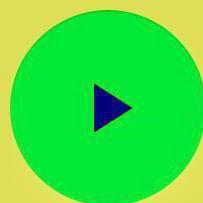ImgButton: (1, 1, 202, 202)
